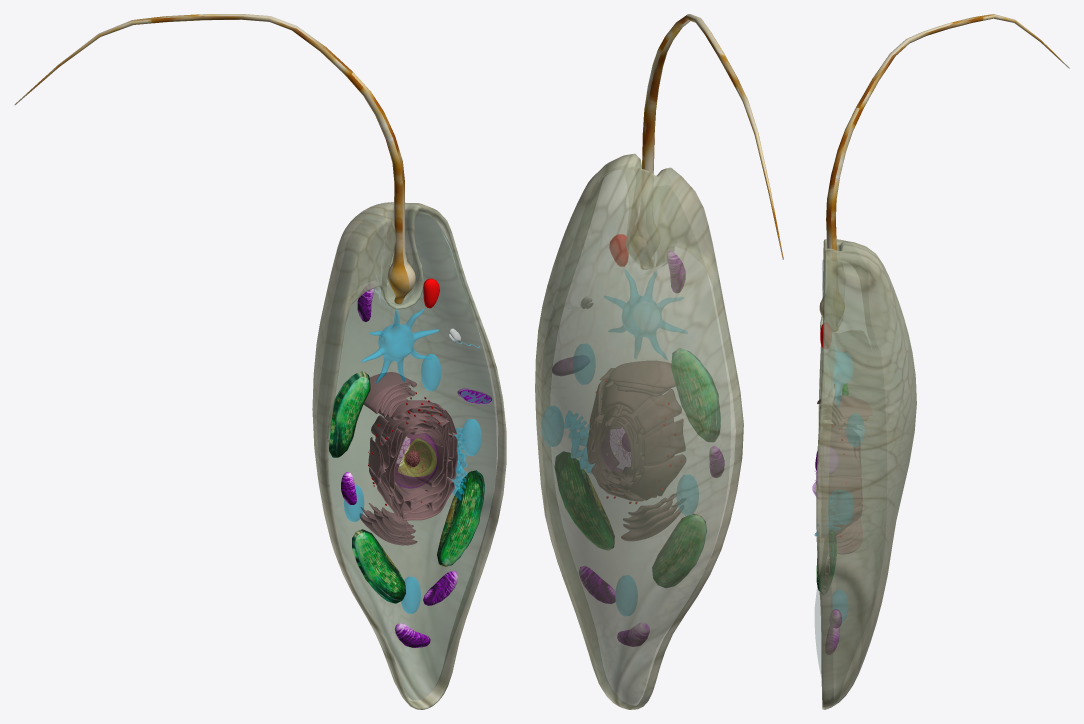
File: optimized_oglena.glb
3 views of the same model, side by side, from view 1: azimuth 30°, elevation 25°; view 2: azimuth 150°, elevation 25°; view 3: azimuth 270°, elevation 25° (orthographic). The views are drawn at different scales.
Visible parts, largest first — view 1: Pellikula, Sitoplazma, pasted__Amip_GER, Kamci, Kloroplast1, Kloroplast2, Kloroplast, Kontraktil_Koful, Golgi_Aygıtı1, Golgi_Aygıtı, Nukleoplazma, Cekirdek_Zarı; view 2: Pellikula, pasted__Amip_GER, Kamci, Kloroplast1, Kloroplast, Kloroplast2, Golgi_Aygıtı1, Kontraktil_Koful, Golgi_Aygıtı, pasted__Amip_RER, Mitokondri1, Rezervuar1 (+6 smaller); view 3: Pellikula, Kamci, pasted__Amip_GER, Golgi_Aygıtı1, Kontraktil_Koful, Golgi_Aygıtı, Sitoplazma, Rezervuar2, Rezervuar3.
Part boxes in pixels (x1,y1,x2,y2): Pellikula: (312,202,506,709); Sitoplazma: (328,213,496,700); pasted__Amip_GER: (368,400,457,520); Kamci: (14,14,415,304); Kloroplast1: (437,470,484,567); Kloroplast2: (352,529,405,603); Kloroplast: (329,371,370,457); Kontraktil_Koful: (361,309,438,383); Golgi_Aygıtı1: (363,372,416,417); Golgi_Aygıtı: (360,503,417,545); Nukleoplazma: (396,434,436,486); Cekirdek_Zarı: (394,433,438,488); Pellikula: (535,153,743,709); pasted__Amip_GER: (587,377,685,500); Kamci: (632,14,783,269); Kloroplast1: (555,451,614,550); Kloroplast: (671,348,720,441); Kloroplast2: (652,514,706,587); Golgi_Aygıtı1: (600,361,675,396); Kontraktil_Koful: (604,269,687,359); Golgi_Aygıtı: (621,494,680,540); pasted__Amip_RER: (564,411,592,472); Mitokondri1: (579,566,615,603); Rezervuar1: (616,575,637,615); Pellikula: (816,239,916,709); Kamci: (819,14,1069,331); pasted__Amip_GER: (828,424,862,535); Golgi_Aygıtı1: (817,395,872,429); Kontraktil_Koful: (834,347,852,407); Golgi_Aygıtı: (836,518,862,553); Sitoplazma: (815,259,824,676); Rezervuar2: (836,491,853,524); Rezervuar3: (846,413,863,446).
Size of the model in its own units: 1.61 by 2.98 by 1.12.
18 materials, 5 textured.
